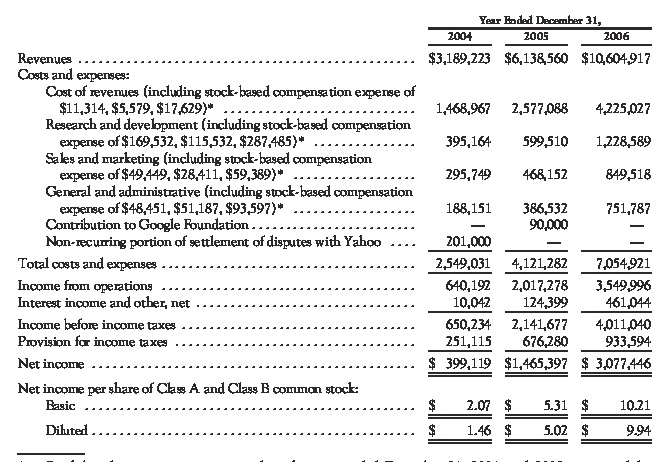table: (0, 0, 670, 462)
